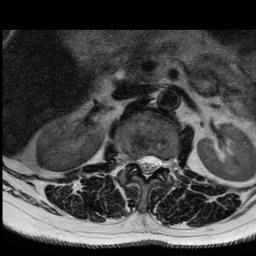CCS_normal: (143, 150, 150, 183)
LFS_normal: (161, 151, 169, 174)
LLS_normal: (150, 150, 160, 175)
RFS_normal: (128, 150, 136, 169)
RLS_normal: (136, 151, 143, 178)
